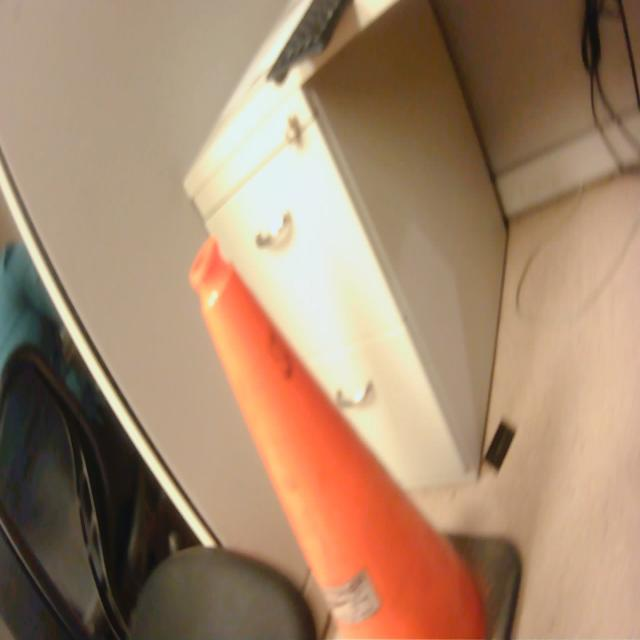traffic cone: (186, 229, 528, 640)
